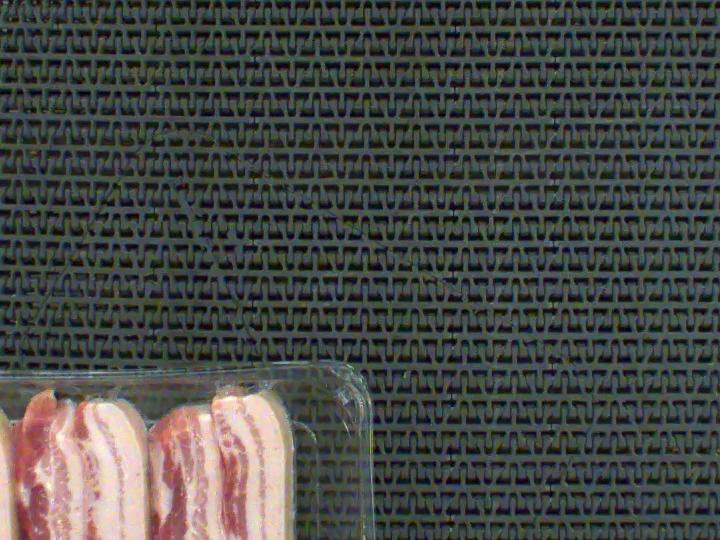packaging-error: (0, 364, 309, 429)
